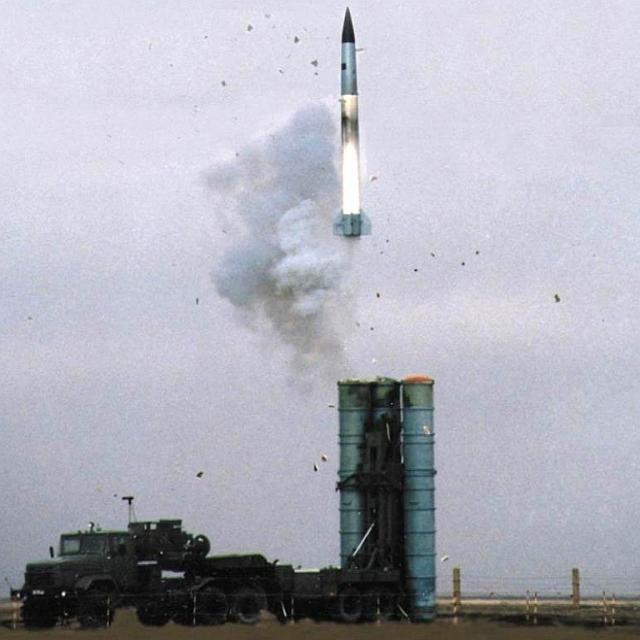Missile: (330, 2, 375, 246)
